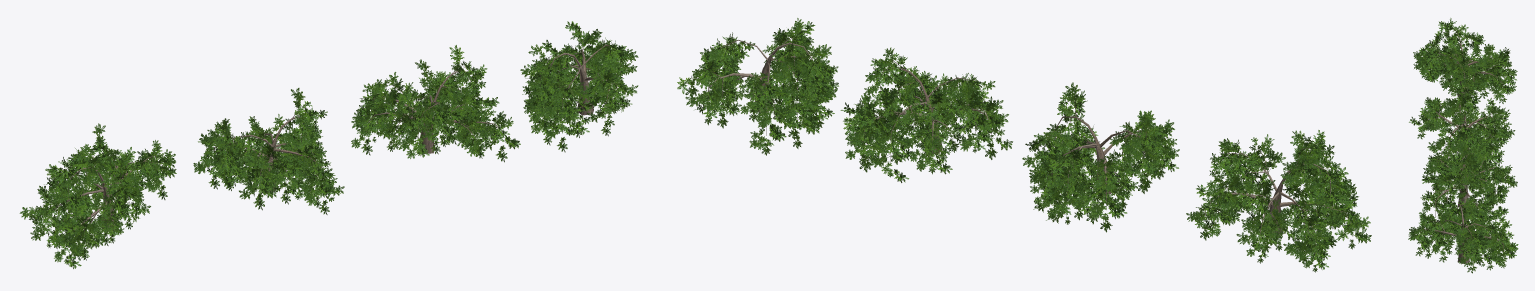
The model's file is trees_real.glb.
The picture shows the model from 3 angles, left to right: view 1: azimuth 30°, elevation 25°; view 2: azimuth 150°, elevation 25°; view 3: azimuth 270°, elevation 25°; orthographic projection. The views are drawn at different scales.
Visible parts, largest first — view 1: sauce_a, sauce_c, sauce_b, sauce_d; view 2: sauce_a, sauce_c, sauce_b, sauce_d; view 3: sauce_a, sauce_c, sauce_b, sauce_d.
Part boxes in pixels (left/top/right/bottom): sauce_a: left=19, top=123, right=176, bottom=268; sauce_c: left=351, top=45, right=520, bottom=162; sauce_b: left=193, top=88, right=344, bottom=214; sauce_d: left=520, top=21, right=638, bottom=152; sauce_a: left=1186, top=130, right=1371, bottom=272; sauce_c: left=840, top=47, right=1012, bottom=182; sauce_b: left=1022, top=82, right=1179, bottom=232; sauce_d: left=677, top=18, right=838, bottom=155; sauce_a: left=1413, top=18, right=1517, bottom=103; sauce_c: left=1420, top=141, right=1517, bottom=232; sauce_b: left=1409, top=79, right=1515, bottom=182; sauce_d: left=1408, top=195, right=1518, bottom=273.
Bounding box in the file's own units: 115 × 22.84 × 26.64.
2 materials, 2 textured.
